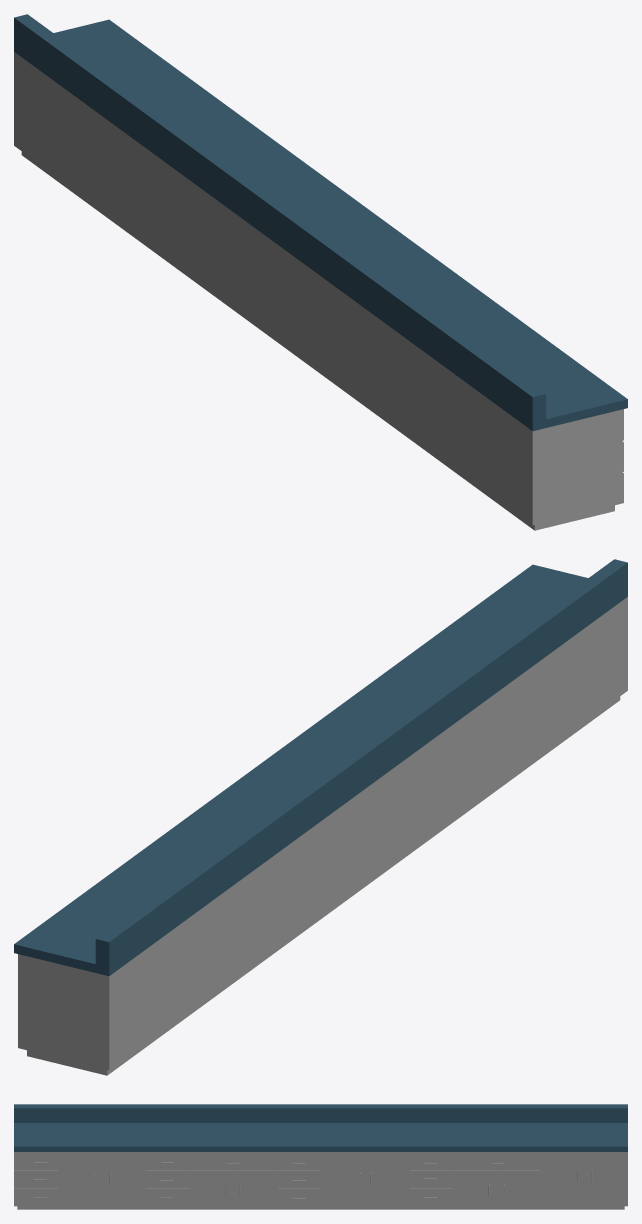
The model's file is lab_bench4.glb.
The picture shows the model from 3 angles, top to bottom: view 1: azimuth 30°, elevation 25°; view 2: azimuth 150°, elevation 25°; view 3: azimuth 270°, elevation 25°; orthographic projection. The views are drawn at different scales.
Visible parts, largest first — view 1: Cube, Cube.001; view 2: Cube, Cube.001; view 3: Cube, Cube.001.
Part boxes in pixels (x1,y1,x2,y2): Cube: (14,52,623,530); Cube.001: (14,14,627,430); Cube: (18,597,627,1075); Cube.001: (14,559,627,975); Cube: (14,1152,627,1209); Cube.001: (14,1104,627,1151).
Bounding box in the file's own units: 1.61 × 2.18 × 15.
